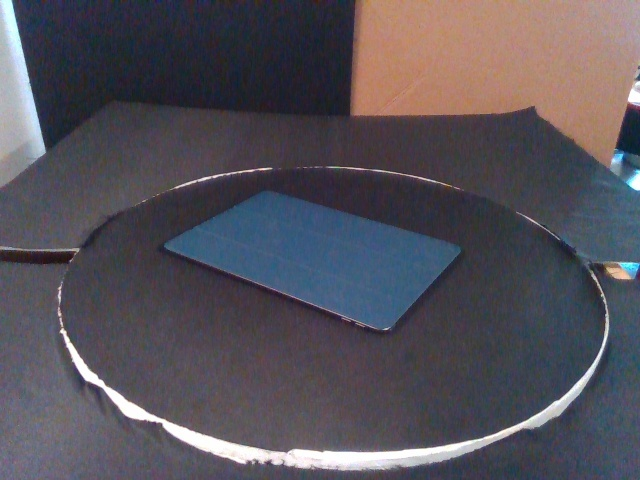laptop: (162, 186, 462, 333)
